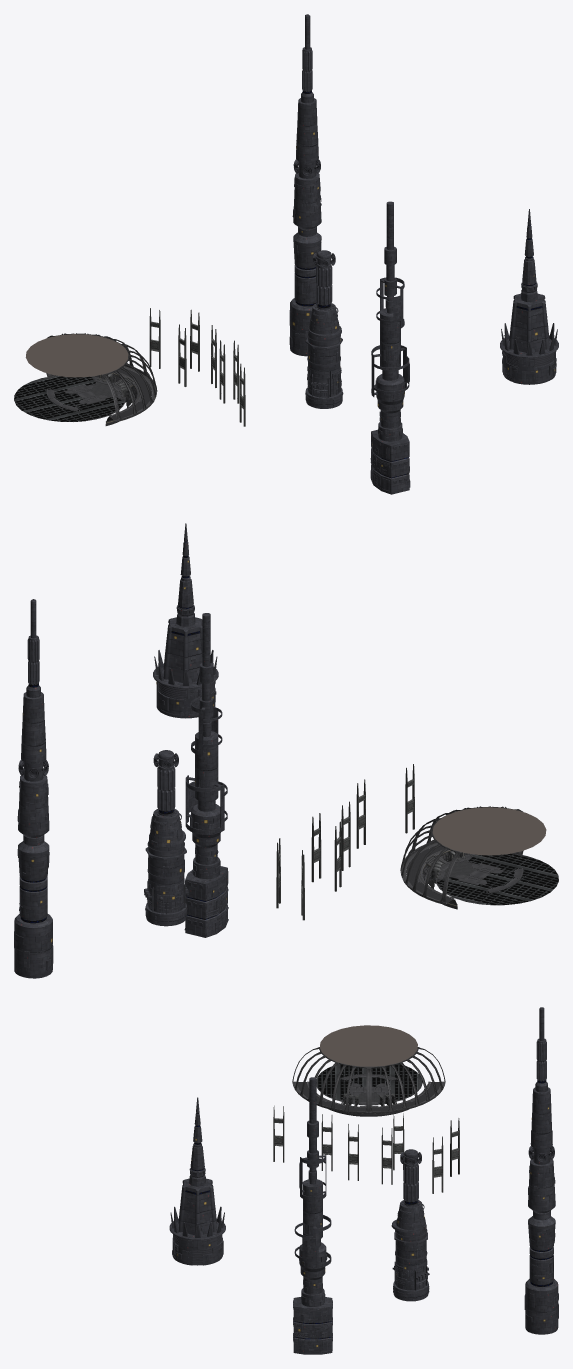
Rendered from env_sf_malak_chamber_pre.glb.
3 views of the same model, one above another, from view 1: azimuth 30°, elevation 25°; view 2: azimuth 150°, elevation 25°; view 3: azimuth 270°, elevation 25° (orthographic). The views are drawn at different scales.
Visible parts, largest first — view 1: sf_spire_02_mesh, sf_spire_03_mesh, sf_spire_04_mesh, sf_spire_01_mesh, cor_jcc_floor_mesh (2), sun_moon_plane_mesh, sf_window_01_mesh, sf_wall_03_mesh; view 2: sf_spire_03_mesh, sf_spire_02_mesh, sf_spire_01_mesh, sf_spire_04_mesh, cor_jcc_floor_mesh (2), sun_moon_plane_mesh, sf_window_01_mesh, sf_wall_03_mesh, sf_floor_03a_mesh; view 3: sf_spire_03_mesh, sf_spire_02_mesh, sf_spire_04_mesh, sf_spire_01_mesh, cor_jcc_floor_mesh (2), sf_window_01_mesh, sun_moon_plane_mesh, sf_wall_03_mesh.
Boxes of the visible parts, x1,y1,x2,y2 form: sf_spire_02_mesh: [370, 201, 410, 494]; sf_spire_03_mesh: [289, 14, 321, 356]; sf_spire_04_mesh: [500, 209, 558, 384]; sf_spire_01_mesh: [305, 250, 343, 408]; cor_jcc_floor_mesh (2): [25, 334, 128, 377]; sun_moon_plane_mesh: [14, 375, 124, 421]; sf_window_01_mesh: [47, 333, 157, 421]; sf_wall_03_mesh: [46, 366, 156, 425]; sf_spire_03_mesh: [14, 599, 53, 978]; sf_spire_02_mesh: [184, 613, 228, 937]; sf_spire_01_mesh: [144, 750, 188, 926]; sf_spire_04_mesh: [153, 523, 218, 718]; cor_jcc_floor_mesh (2): [432, 807, 546, 855]; sun_moon_plane_mesh: [435, 853, 558, 905]; sf_window_01_mesh: [400, 806, 522, 904]; sf_wall_03_mesh: [401, 842, 523, 909]; sf_floor_03a_mesh: [468, 866, 523, 893]; sf_spire_03_mesh: [524, 1007, 558, 1334]; sf_spire_02_mesh: [293, 1077, 332, 1354]; sf_spire_04_mesh: [169, 1097, 225, 1265]; sf_spire_01_mesh: [391, 1149, 429, 1301]; cor_jcc_floor_mesh (2): [319, 1025, 417, 1066]; sf_window_01_mesh: [292, 1047, 445, 1113]; sun_moon_plane_mesh: [316, 1063, 422, 1100]; sf_wall_03_mesh: [293, 1081, 444, 1116].
Bounding box in the file's own units: 229 × 184 × 254.
Materials: 14 (14 with a texture image).
